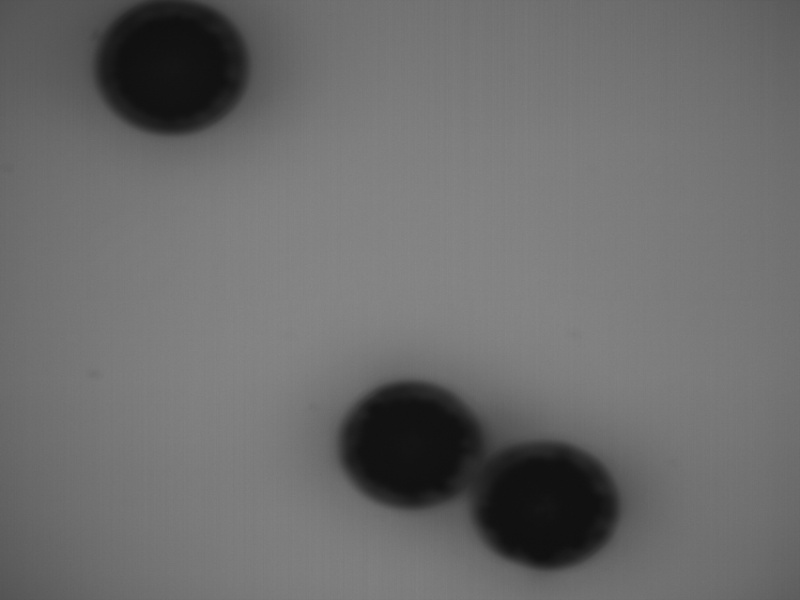bead: (94, 1, 250, 135), (468, 440, 622, 572), (336, 380, 491, 511)
